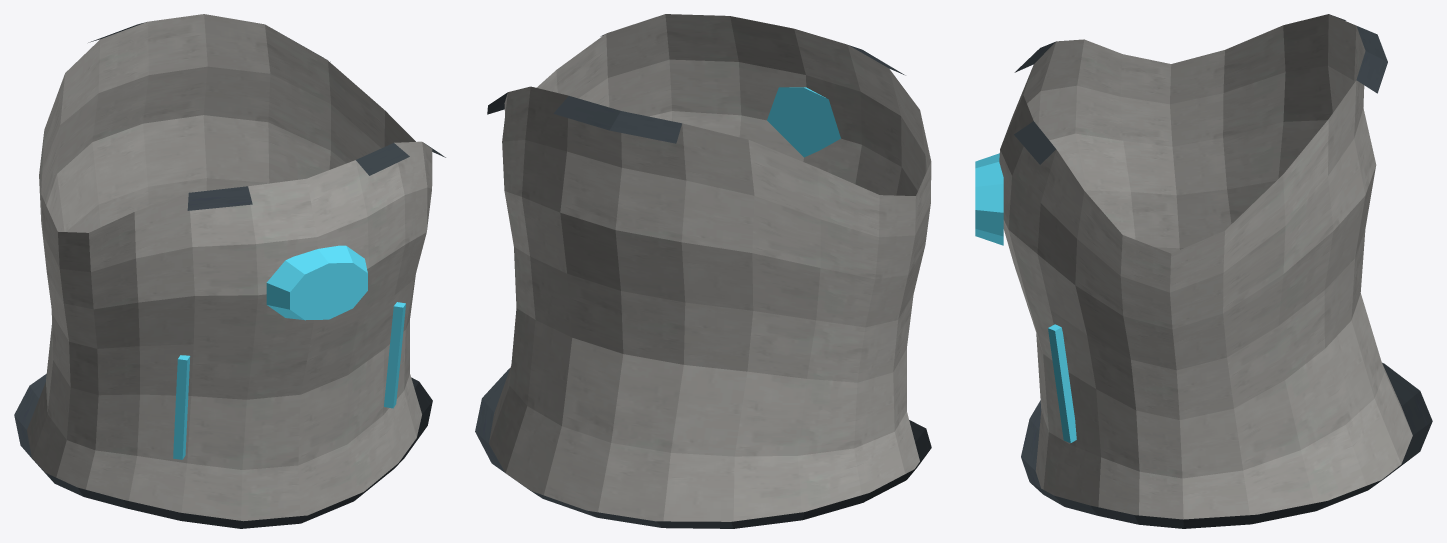
The model's file is eq_future_2_chest.glb.
3 renders of one model, left to right at view 1: azimuth 30°, elevation 25°; view 2: azimuth 150°, elevation 25°; view 3: azimuth 270°, elevation 25°, orthographic. The views are drawn at different scales.
Visible parts, largest first — view 1: eq_future_2_chest; view 2: eq_future_2_chest; view 3: eq_future_2_chest.
Part boxes in pixels (left/top/right/bottom): eq_future_2_chest: left=14, top=14, right=445, bottom=528; eq_future_2_chest: left=475, top=14, right=931, bottom=528; eq_future_2_chest: left=975, top=14, right=1432, bottom=528.
Size of the model in its own units: 0.4431 by 0.4282 by 0.4225.
3 materials, 2 textured.
